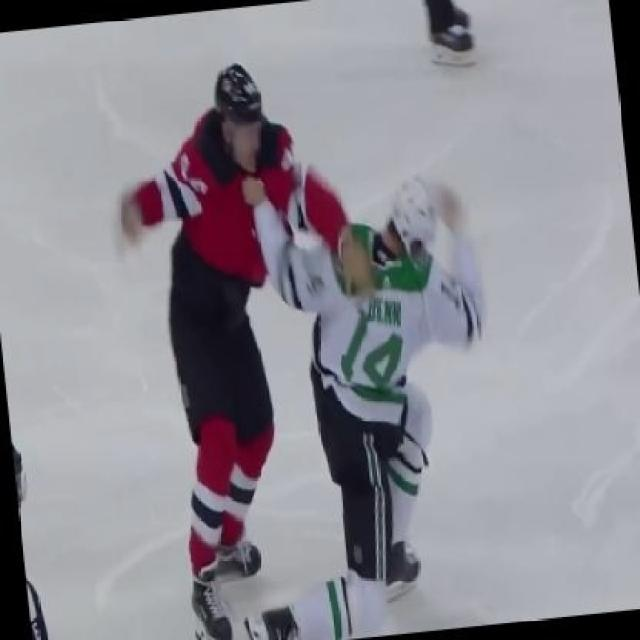fight: (117, 58, 485, 635)
